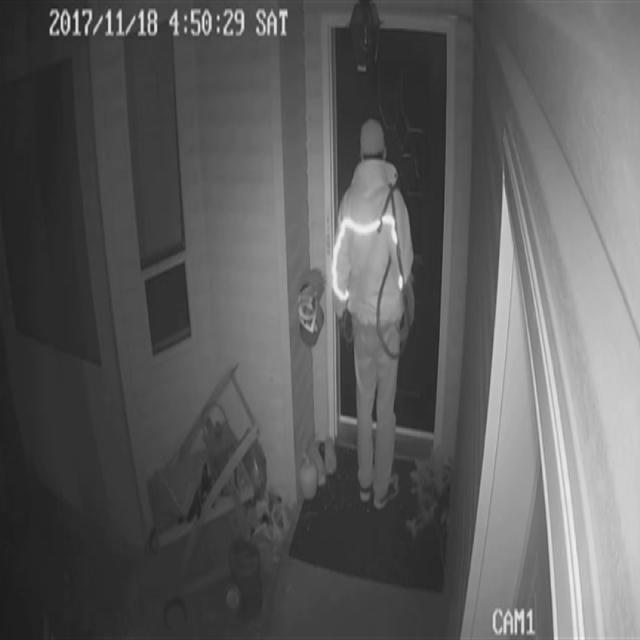standing: (331, 119, 414, 508)
